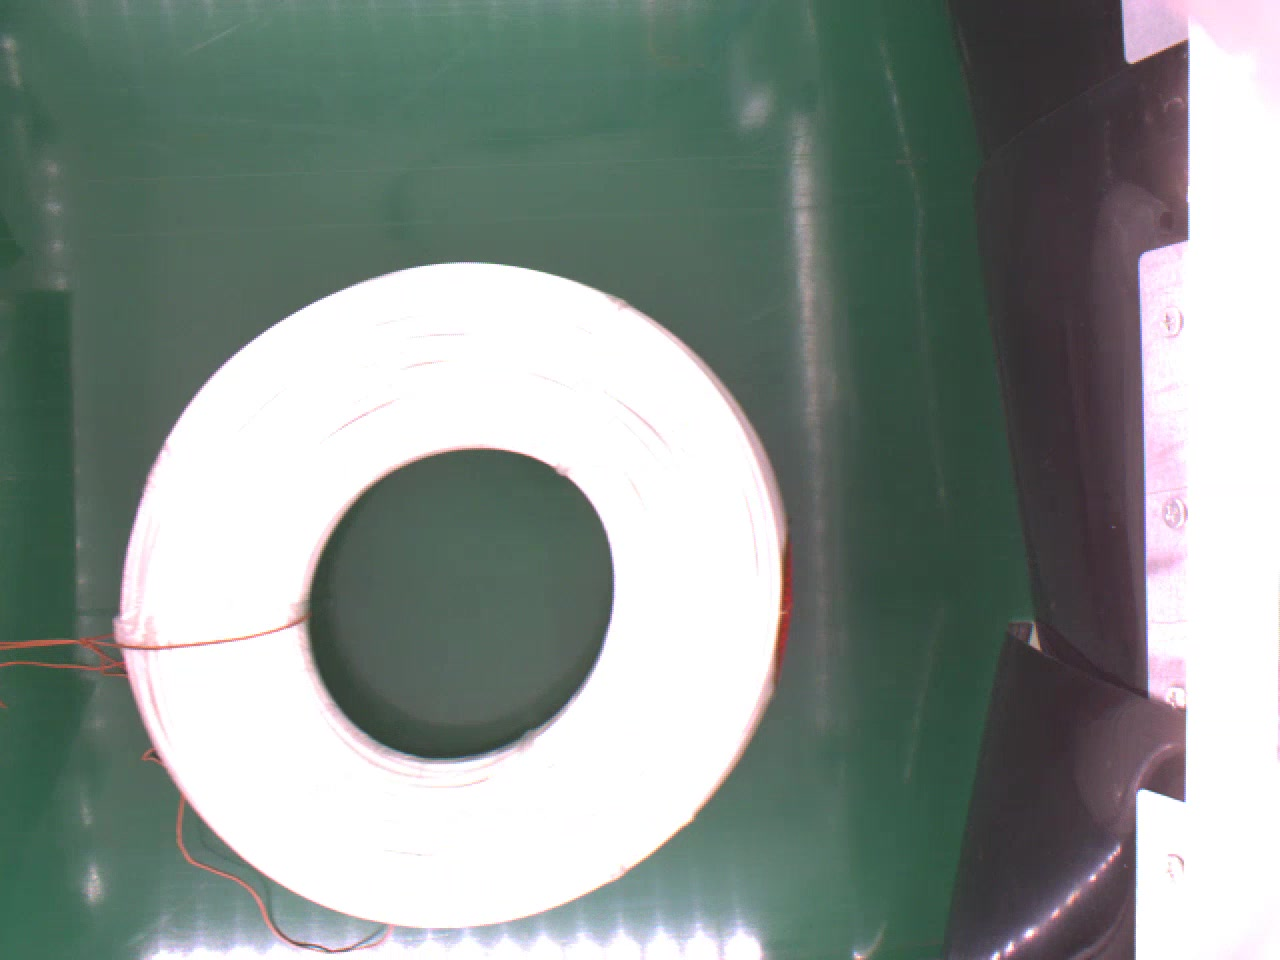white: (114, 252, 795, 925)
